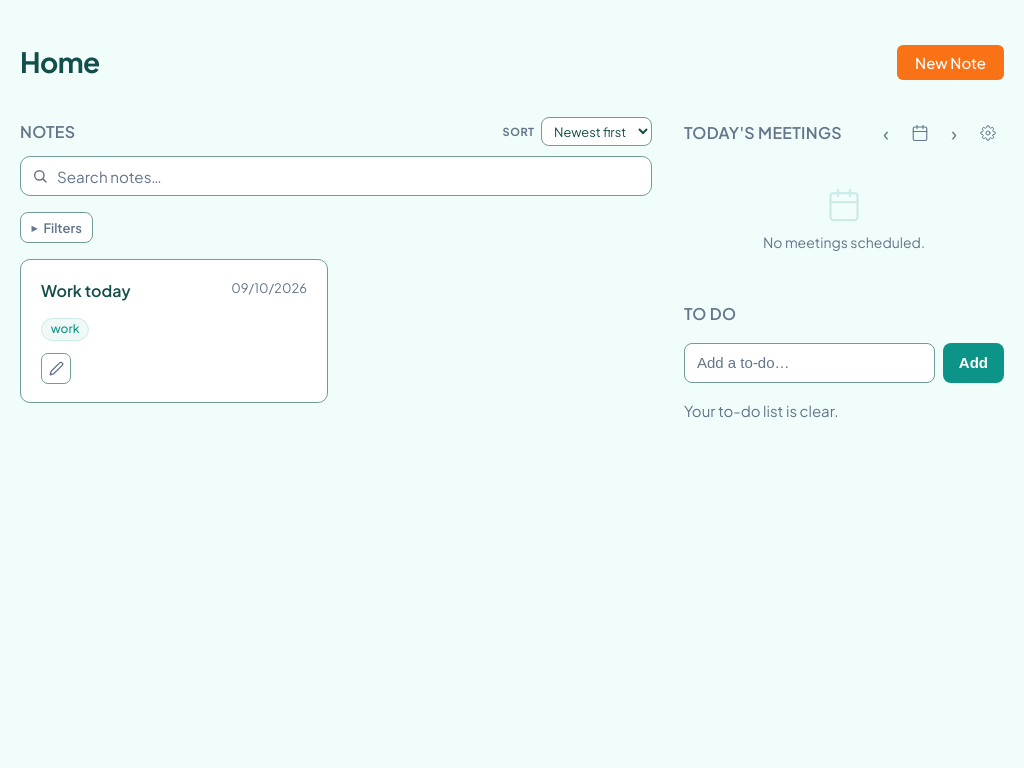
Test: CHANGE-6 — collapsible Filters on the home view › summarises active filters on the collapsed control (Option D)
The width and height of the screenshot is (1024, 768).
// Expand, select the tag, then collapse.
Click the button "▸ Filters": click(57, 228) [20, 212, 93, 243]
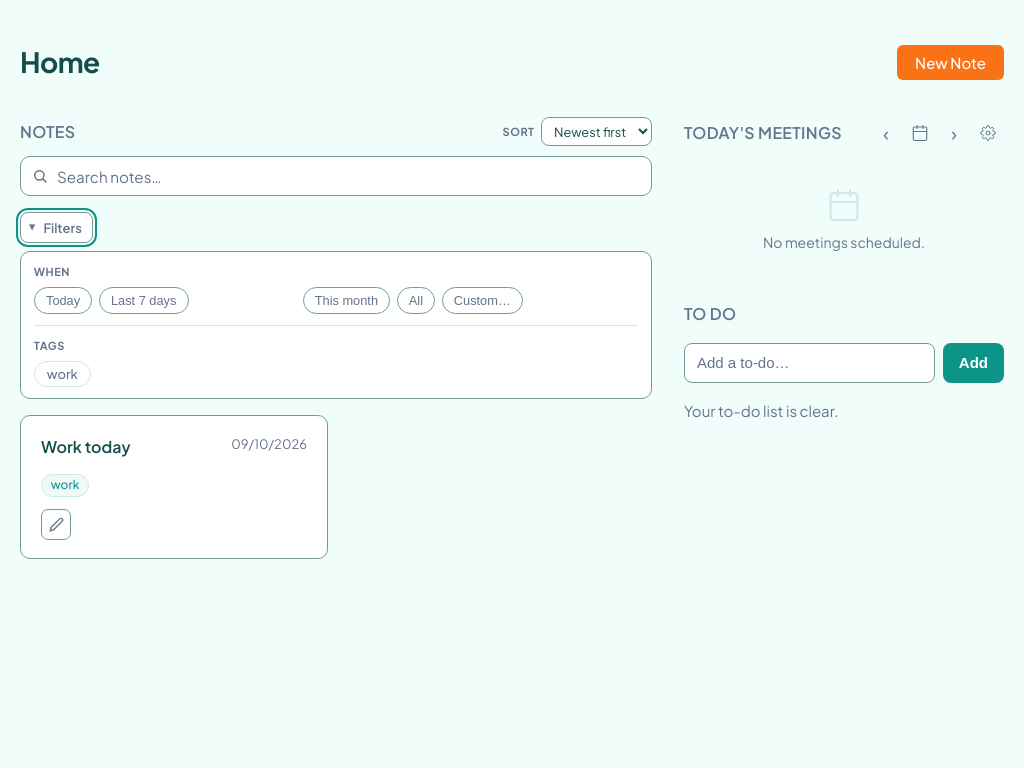
Click the button with test id "tag-filter-pill-work": click(62, 374) [34, 361, 91, 387]
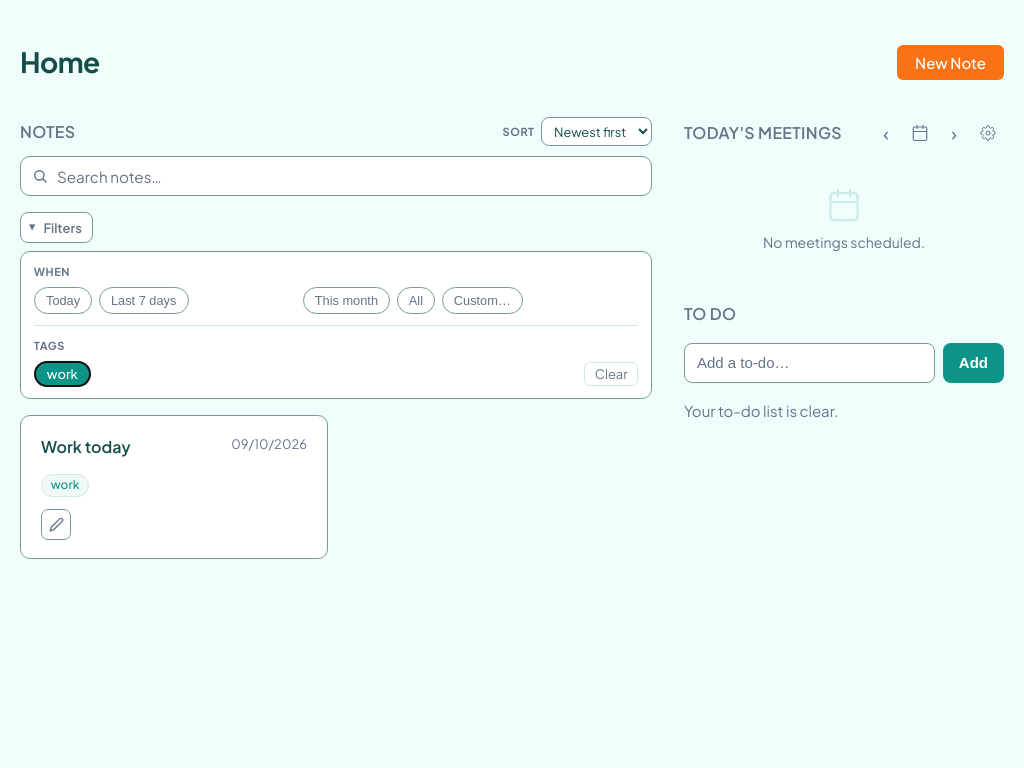
Click the button "▸ Filters": click(57, 228) [20, 212, 93, 243]
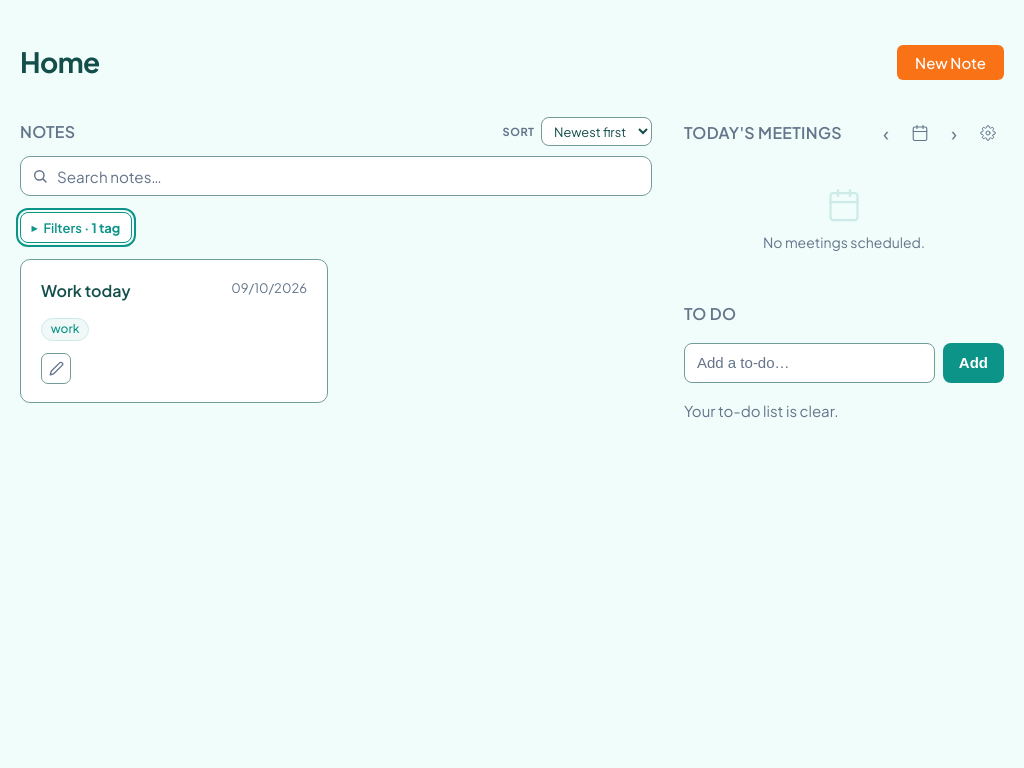
Check: the heading "Work today" is shown, box [41, 280, 130, 301]
Check: the button "▸ Filters · 1 tag" is collapsed, box [20, 212, 132, 243]
Check: the button "▸ Filters · 1 tag" is shown, box [20, 212, 132, 243]
